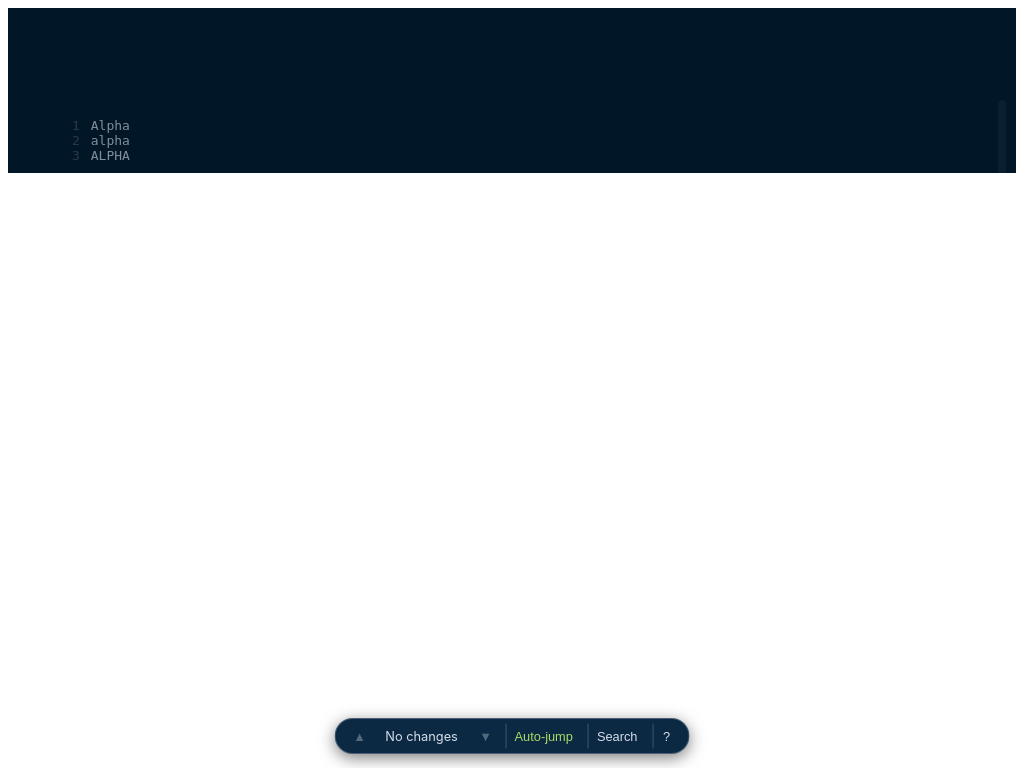
it: search › can match the case
Press /
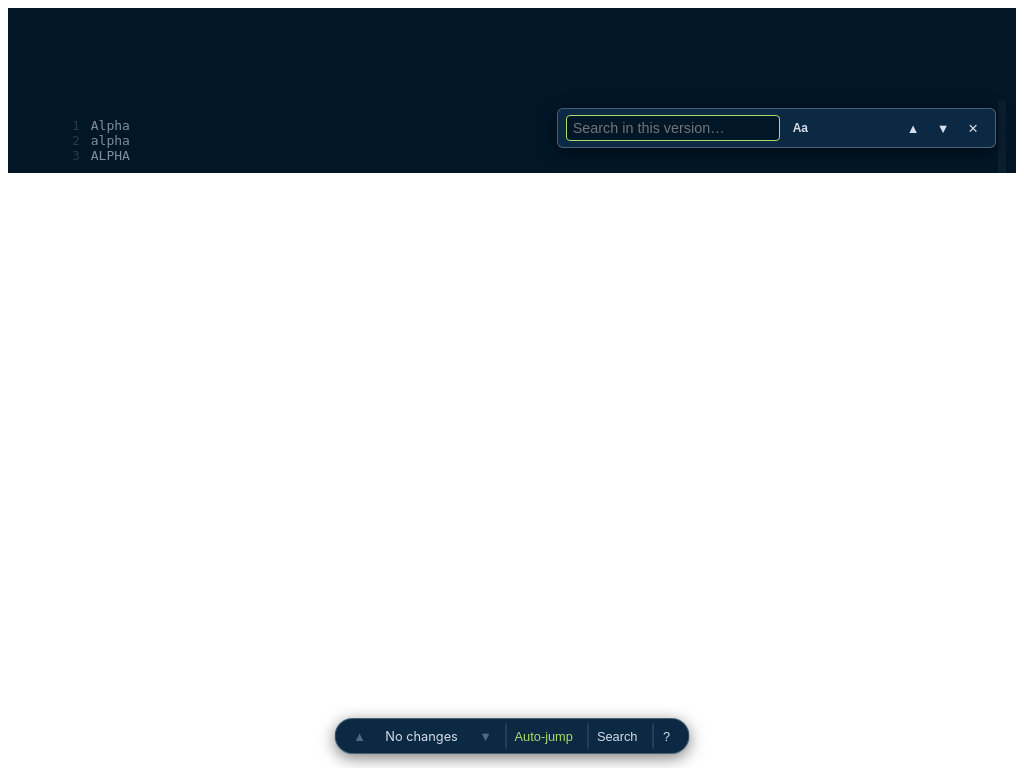
Type "alpha" into the field with placeholder "Search in this version…".
click(673, 128); type("alpha")  # box [566,115,780,141]
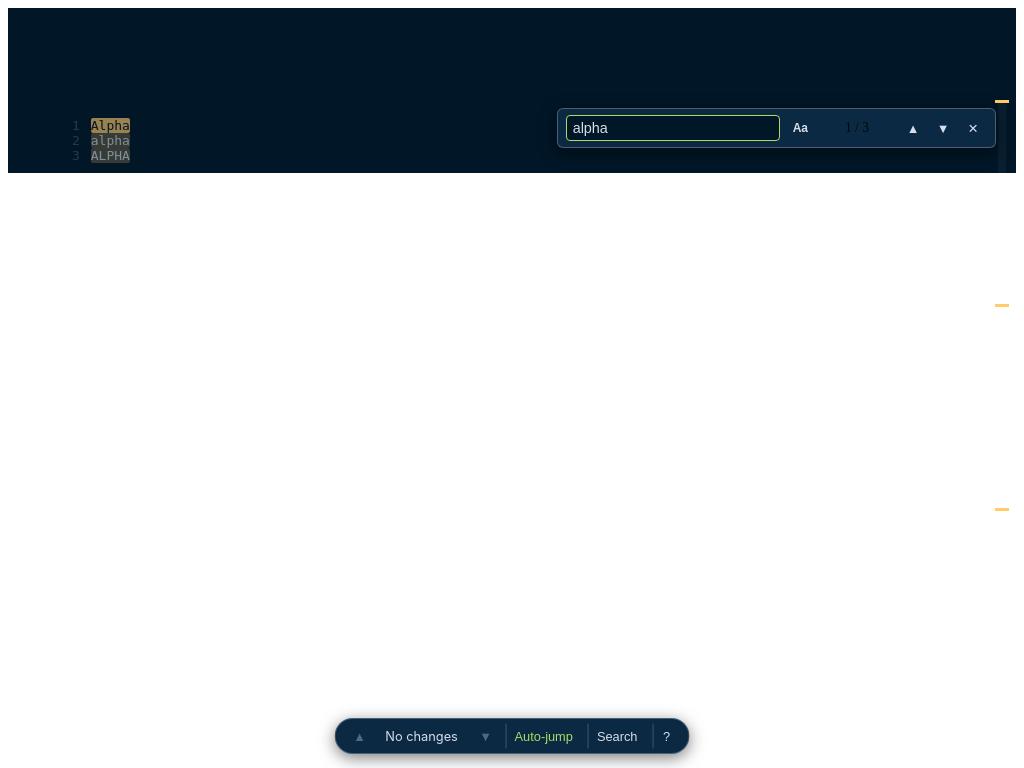
Check: the text with class "search-status" reads "1 / 3", box [845,120,869,135]
Click the button with class "search-case".
click(800, 128)  # box [786,115,815,141]
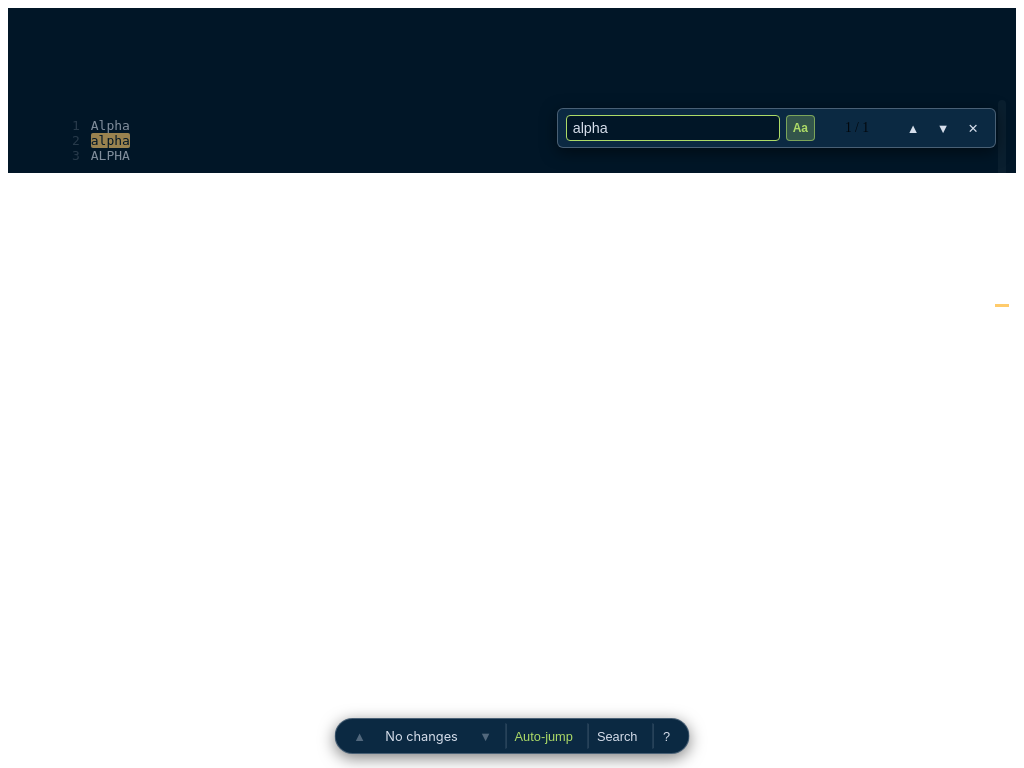
Check: the text with class "search-status" reads "1 / 1", box [845,120,869,135]
